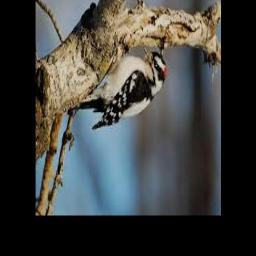Woodpecker: (67, 45, 166, 129)
